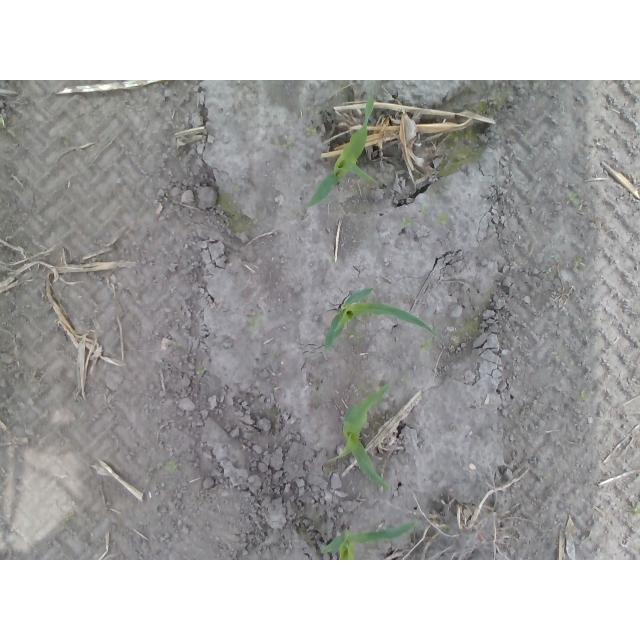Maize: (321, 286, 441, 357), (303, 96, 376, 209), (326, 381, 395, 491), (321, 520, 416, 560)
Weeds: (0, 116, 16, 137), (247, 315, 261, 331), (421, 339, 431, 354), (436, 213, 448, 225), (581, 390, 592, 403), (569, 192, 580, 205), (574, 255, 585, 268), (306, 124, 317, 136), (401, 216, 412, 228), (632, 502, 640, 518), (149, 462, 163, 471), (401, 373, 412, 384), (166, 461, 178, 471), (283, 139, 294, 149), (421, 205, 431, 215), (197, 366, 208, 374), (171, 341, 181, 347), (231, 185, 241, 191), (269, 351, 275, 358)
